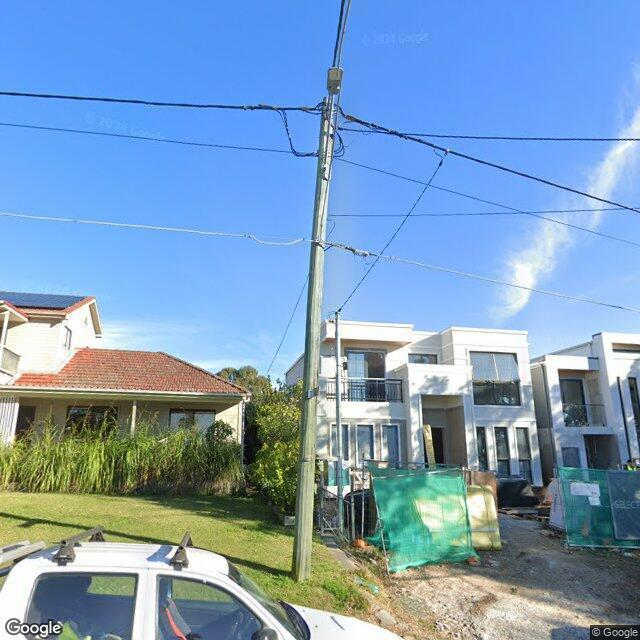streetlight: (322, 66, 343, 180)
timber-pole: (294, 99, 331, 580)
